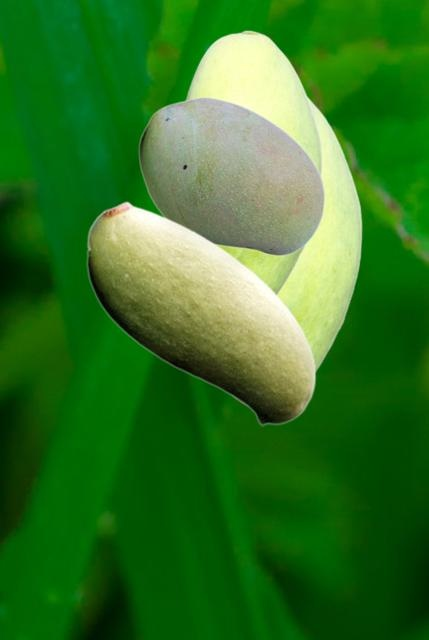green_mango: (86, 200, 315, 425), (231, 93, 361, 407), (183, 30, 321, 295), (138, 96, 324, 255)
